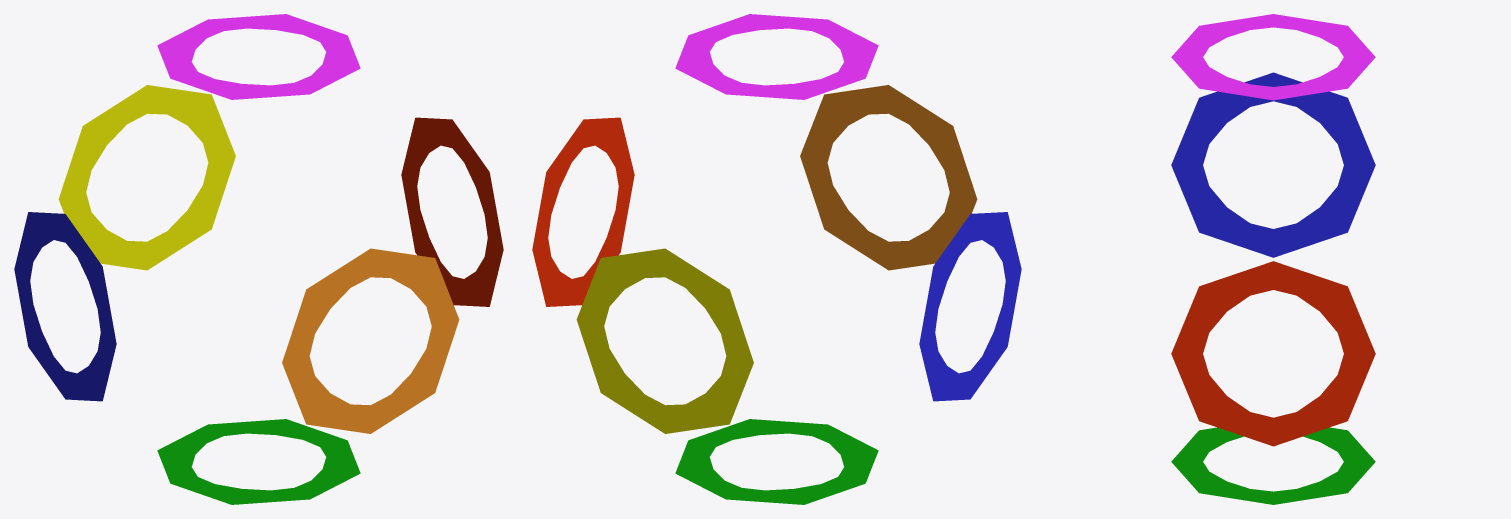
File: circulos.fbx
The picture shows the model from 3 angles, left to right: view 1: azimuth 30°, elevation 25°; view 2: azimuth 150°, elevation 25°; view 3: azimuth 270°, elevation 25°; orthographic projection.
Visible parts, largest first — view 1: Cube.001; view 2: Cube.001; view 3: Cube.001.
Part boxes in pixels (x1,y1,x2,y2): Cube.001: (14,14,503,504); Cube.001: (532,14,1021,504); Cube.001: (1171,14,1375,504).
Bounding box in the file's own units: 442 × 442 × 442.
